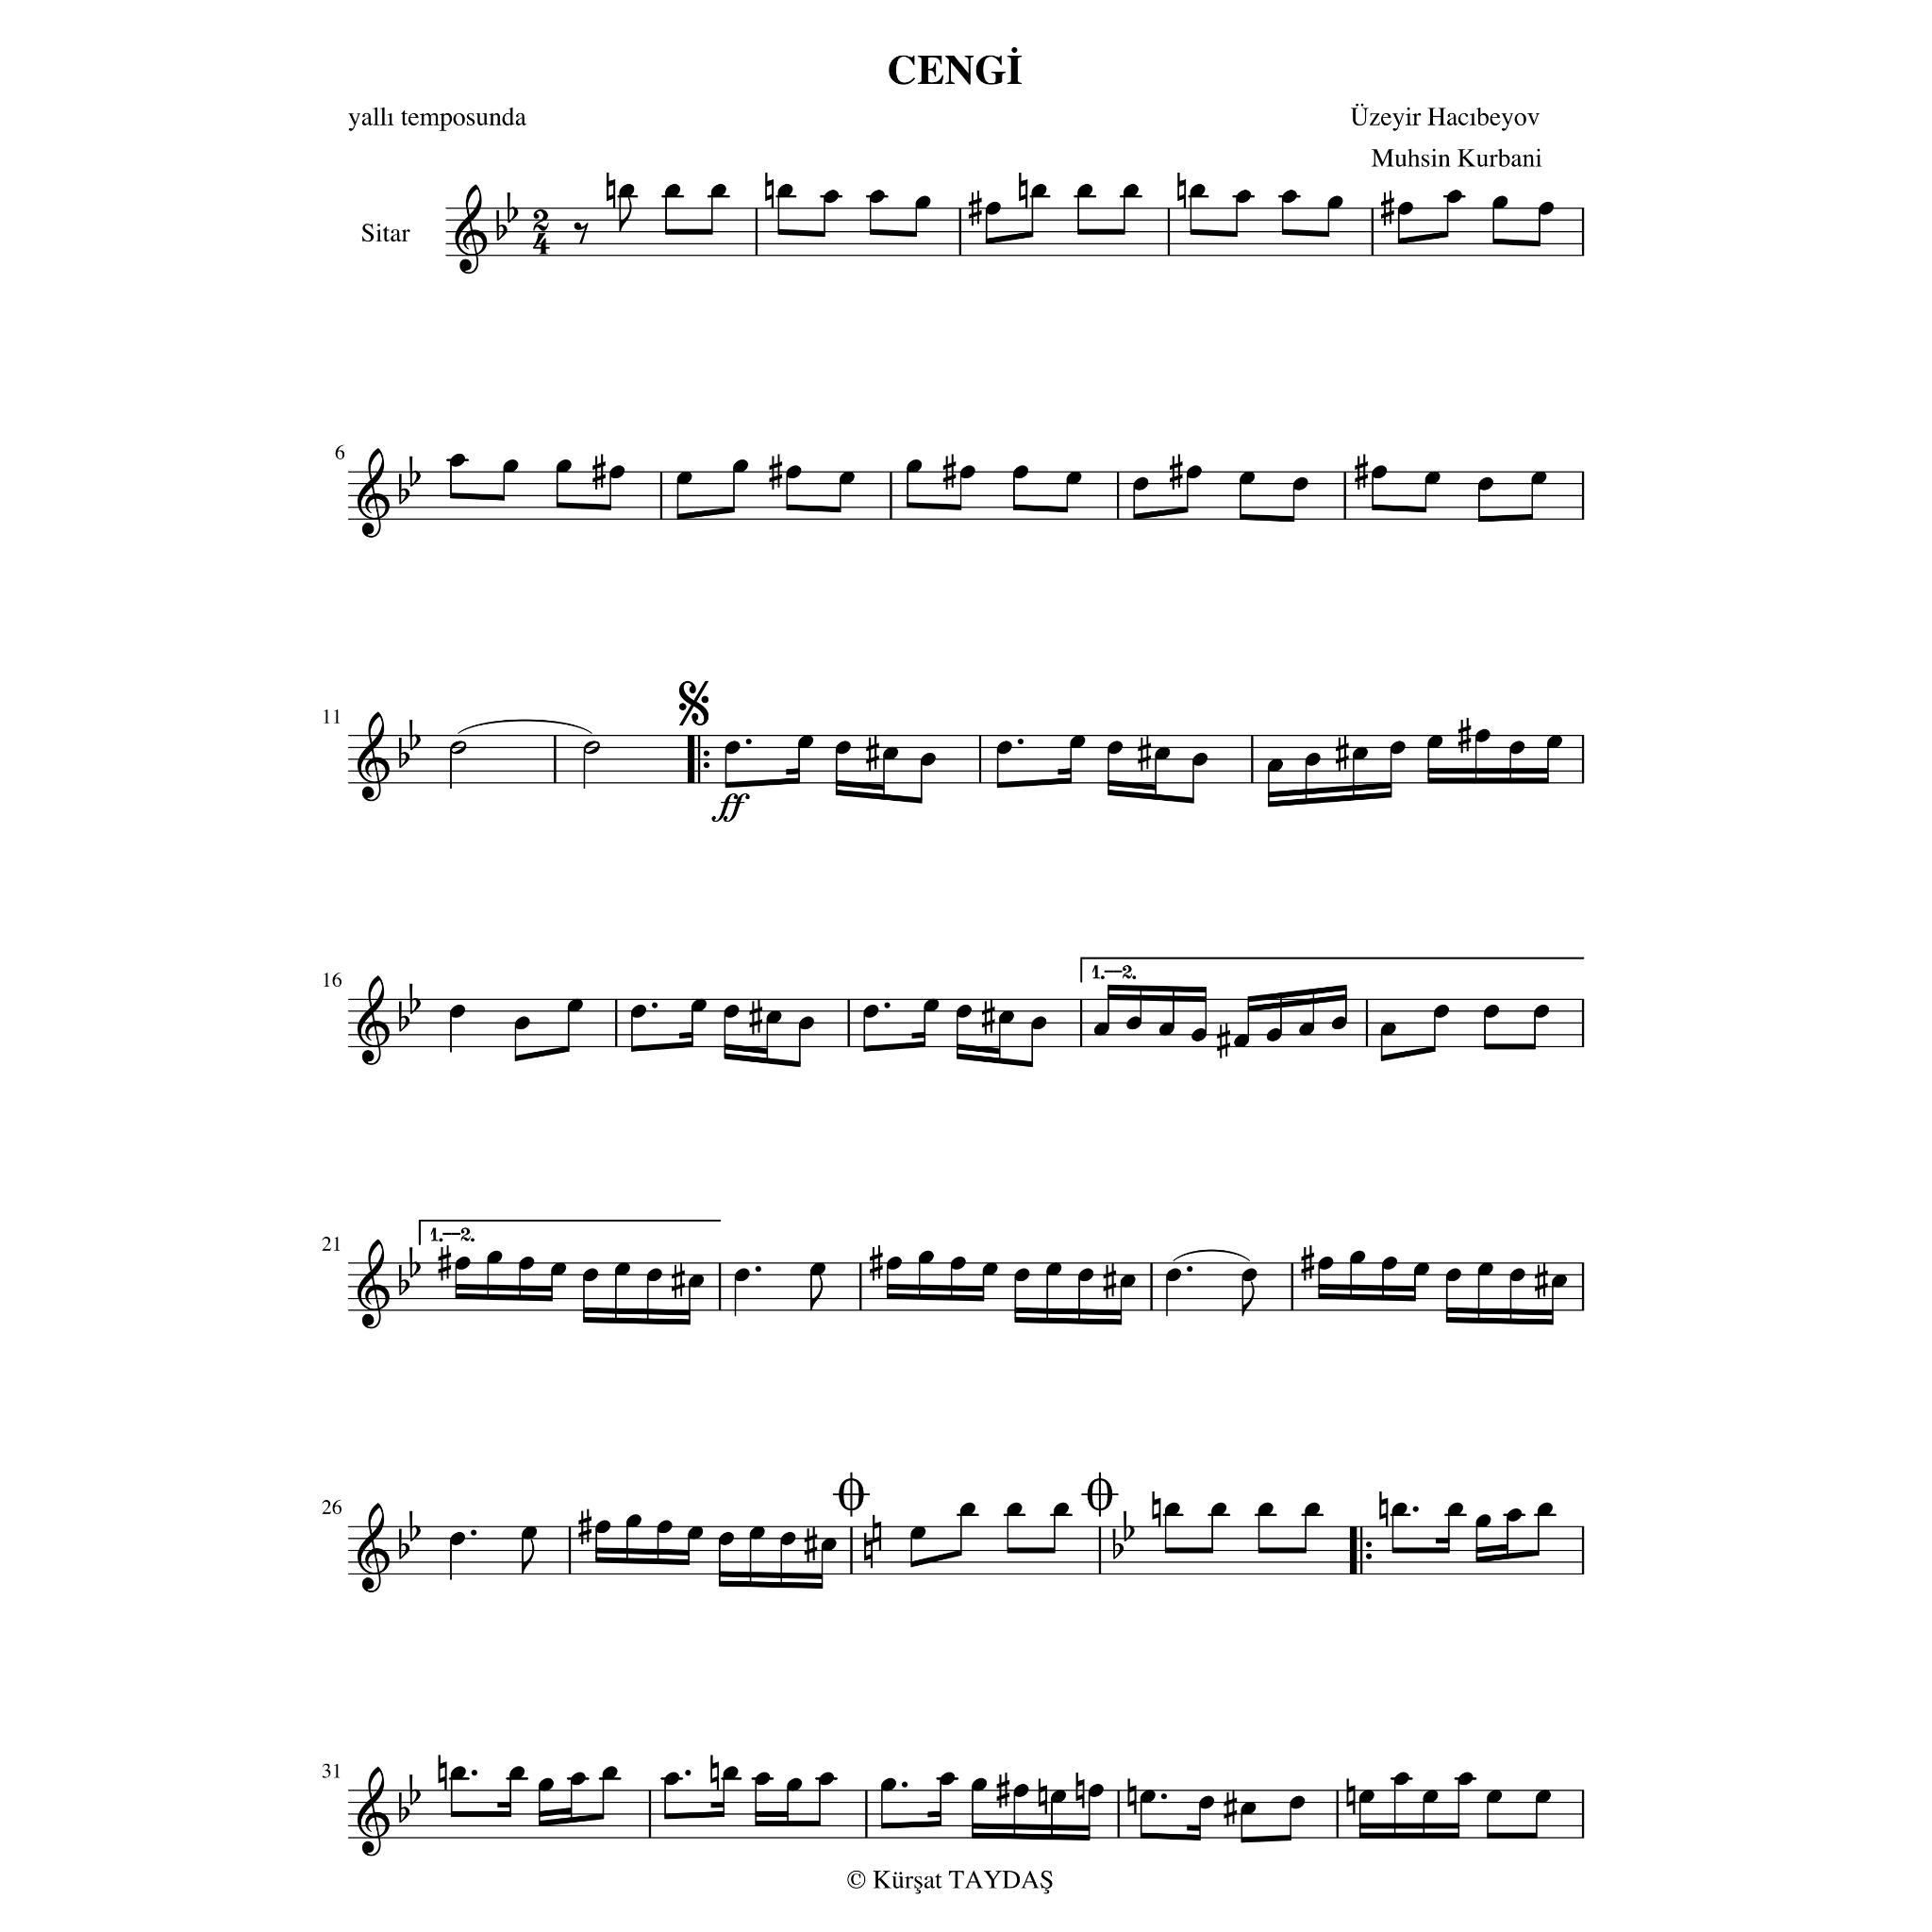flag8thDown: (619, 196, 632, 234), (1242, 1281, 1254, 1316), (810, 1276, 823, 1311), (522, 1539, 534, 1575)
gClef: (357, 975, 389, 1067), (357, 1502, 389, 1594), (455, 186, 487, 276), (357, 448, 389, 538), (357, 711, 389, 801), (357, 1240, 389, 1330), (357, 1766, 389, 1856)
noteheadBlack: (1426, 734, 1444, 748), (630, 1005, 648, 1019), (1412, 1263, 1430, 1277), (1256, 1502, 1274, 1516), (686, 1525, 704, 1539), (1235, 189, 1251, 203), (1281, 189, 1297, 203), (1327, 196, 1343, 211), (1077, 184, 1093, 198), (1122, 184, 1138, 198), (1189, 184, 1205, 198), (1537, 202, 1553, 216), (1396, 202, 1412, 216), (1447, 189, 1463, 203), (1491, 196, 1507, 211), (709, 184, 725, 198), (777, 184, 793, 198), (619, 184, 635, 198), (984, 202, 1000, 216), (915, 196, 931, 211), (1031, 184, 1047, 198), (823, 189, 839, 203), (869, 189, 885, 203), (1185, 465, 1201, 479), (1238, 471, 1254, 485), (1292, 478, 1307, 492), (1012, 465, 1028, 479), (1065, 471, 1081, 485), (1132, 478, 1148, 492), (1530, 471, 1546, 485), (1371, 465, 1387, 479), (1424, 471, 1440, 485), (1477, 478, 1493, 492), (556, 460, 571, 474), (609, 465, 625, 479), (676, 471, 692, 485), (449, 453, 465, 467), (502, 460, 518, 474), (839, 471, 855, 485), (906, 460, 922, 474), (959, 465, 975, 479), (732, 460, 748, 474), (786, 465, 801, 479), (1304, 752, 1320, 766), (1352, 747, 1368, 761), (1069, 734, 1085, 748), (1108, 741, 1123, 755), (1154, 747, 1169, 761), (1192, 752, 1208, 766), (1546, 734, 1562, 748), (1389, 741, 1405, 755), (1474, 729, 1490, 743), (1509, 741, 1525, 755), (724, 741, 740, 755), (920, 752, 936, 766), (996, 741, 1012, 755), (798, 734, 814, 748), (835, 741, 851, 755), (883, 747, 899, 761), (1159, 1023, 1175, 1037), (1191, 1028, 1207, 1042), (1299, 1023, 1315, 1037), (1233, 1035, 1249, 1049), (1265, 1028, 1281, 1042), (1093, 1023, 1109, 1037), (1483, 1005, 1499, 1019), (1534, 1005, 1550, 1019), (1330, 1017, 1346, 1031), (1380, 1023, 1396, 1037), (1433, 1005, 1449, 1019), (690, 998, 706, 1012), (724, 1005, 740, 1019), (449, 1005, 465, 1019), (513, 1017, 529, 1031), (566, 998, 582, 1012), (924, 998, 939, 1012), (955, 1005, 971, 1019), (998, 1010, 1014, 1024), (766, 1010, 782, 1024), (798, 1017, 814, 1031), (863, 1005, 879, 1019), (1318, 1256, 1334, 1270), (1240, 1269, 1256, 1283), (1014, 1269, 1030, 1283), (1046, 1263, 1062, 1277), (982, 1263, 998, 1277), (1120, 1274, 1136, 1288), (1166, 1269, 1182, 1283), (1077, 1269, 1093, 1283), (1552, 1274, 1568, 1288), (1509, 1269, 1525, 1283), (1380, 1256, 1396, 1270), (1350, 1251, 1366, 1265), (1477, 1263, 1493, 1277), (1445, 1269, 1461, 1283), (614, 1263, 630, 1277), (582, 1269, 598, 1283), (550, 1263, 566, 1277), (688, 1274, 704, 1288), (646, 1269, 662, 1283), (518, 1256, 534, 1270), (487, 1251, 502, 1265), (455, 1256, 471, 1270), (810, 1263, 826, 1277), (886, 1256, 902, 1270), (734, 1269, 750, 1283), (950, 1256, 966, 1270), (1391, 1502, 1407, 1516), (1210, 1502, 1226, 1516), (1304, 1502, 1320, 1516), (961, 1502, 977, 1516), (1007, 1502, 1023, 1516), (1164, 1502, 1180, 1516), (1506, 1507, 1522, 1522), (1537, 1502, 1553, 1516), (1447, 1502, 1463, 1516), (1476, 1514, 1491, 1529), (594, 1520, 610, 1534), (625, 1514, 640, 1529), (656, 1520, 672, 1534), (449, 1532, 465, 1546), (522, 1525, 538, 1539), (821, 1537, 837, 1552), (909, 1525, 925, 1539), (718, 1532, 734, 1546), (748, 1525, 764, 1539), (1198, 1796, 1214, 1810), (1240, 1801, 1256, 1815), (1290, 1796, 1306, 1810), (1051, 1789, 1067, 1803), (1012, 1783, 1028, 1798), (1139, 1789, 1155, 1803), (1088, 1783, 1104, 1798), (1534, 1789, 1550, 1803), (1486, 1789, 1502, 1803), (1359, 1789, 1375, 1803), (1422, 1789, 1438, 1803), (1458, 1773, 1474, 1787), (1394, 1773, 1410, 1787), (663, 1773, 679, 1787), (602, 1766, 617, 1780), (570, 1773, 586, 1787), (449, 1766, 465, 1780), (538, 1778, 554, 1792), (510, 1766, 525, 1780), (939, 1773, 955, 1787), (819, 1773, 835, 1787), (881, 1778, 897, 1792), (722, 1766, 738, 1780), (971, 1778, 987, 1792), (754, 1773, 770, 1787), (786, 1778, 801, 1792), (665, 184, 679, 198), (1269, 759, 1283, 773), (1031, 1017, 1046, 1031), (1127, 1017, 1141, 1031), (918, 1251, 932, 1265), (1054, 1502, 1069, 1516), (780, 1532, 794, 1546)
noteheadHalf: (449, 741, 465, 755), (584, 741, 600, 755)
rest8th: (573, 223, 589, 246)
